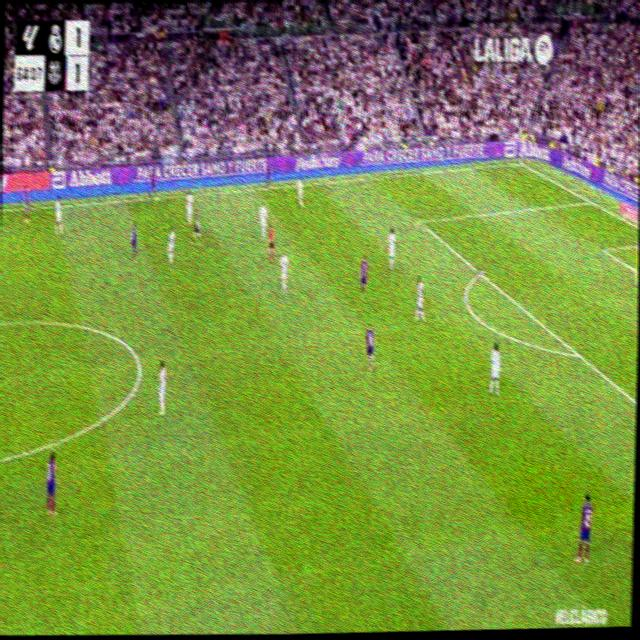bigarea_top_inner: (414, 212, 423, 228)
bottom_arc_area_intersection: (571, 343, 582, 364)
corner: (515, 157, 524, 168)
smallarea_top_inner: (598, 241, 607, 256)
top_arc_area_intersection: (475, 263, 484, 280)
